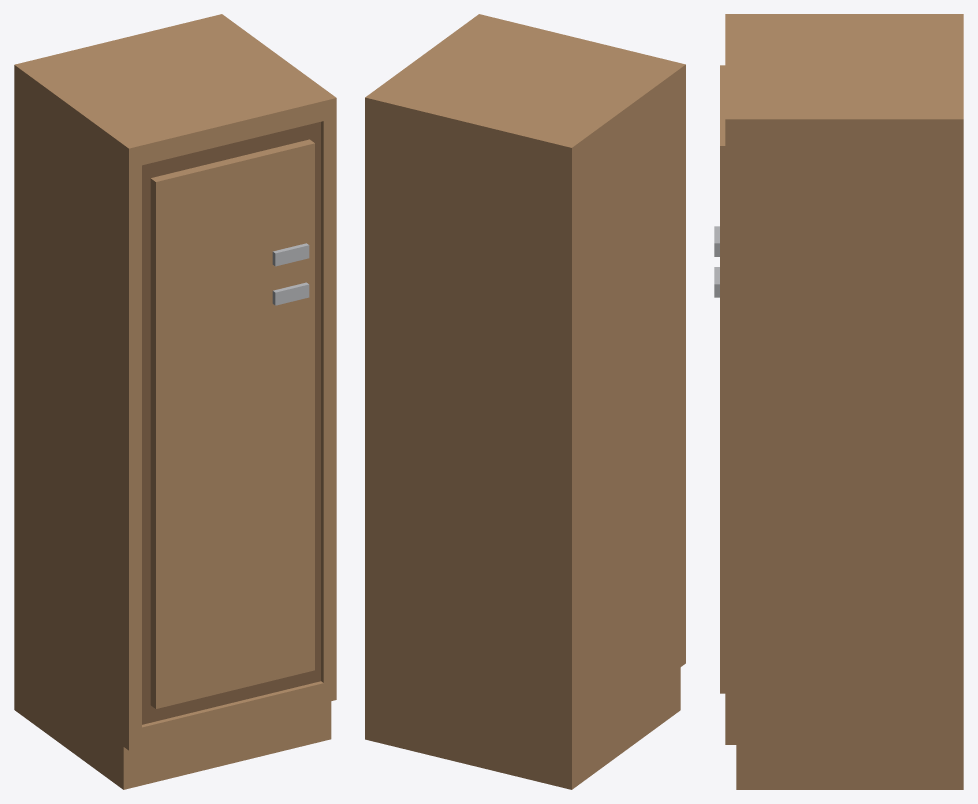
File: fridge-built-in.glb
3 renders of one model, left to right at view 1: azimuth 30°, elevation 25°; view 2: azimuth 150°, elevation 25°; view 3: azimuth 270°, elevation 25°, orthographic. The views are drawn at different scales.
Parts seen in each view (by area): view 1: kitchenFridgeBuiltIn(Clone), doorFridge, doorFreezer; view 2: kitchenFridgeBuiltIn(Clone); view 3: kitchenFridgeBuiltIn(Clone), doorFridge, doorFreezer.
Part boxes in pixels (bbox=[...]): kitchenFridgeBuiltIn(Clone): bbox=[14, 14, 336, 789]; doorFridge: bbox=[150, 267, 314, 708]; doorFreezer: bbox=[150, 139, 314, 305]; kitchenFridgeBuiltIn(Clone): bbox=[365, 14, 685, 789]; kitchenFridgeBuiltIn(Clone): bbox=[725, 14, 963, 789]; doorFridge: bbox=[714, 267, 725, 693]; doorFreezer: bbox=[714, 65, 725, 274].
Size of the model in its own units: 0.6 by 1.78 by 0.6.
